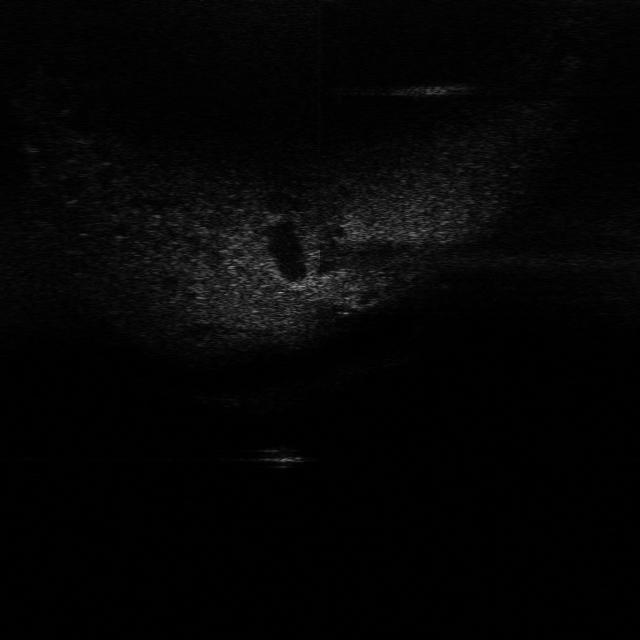cube: (258, 444, 308, 471)
